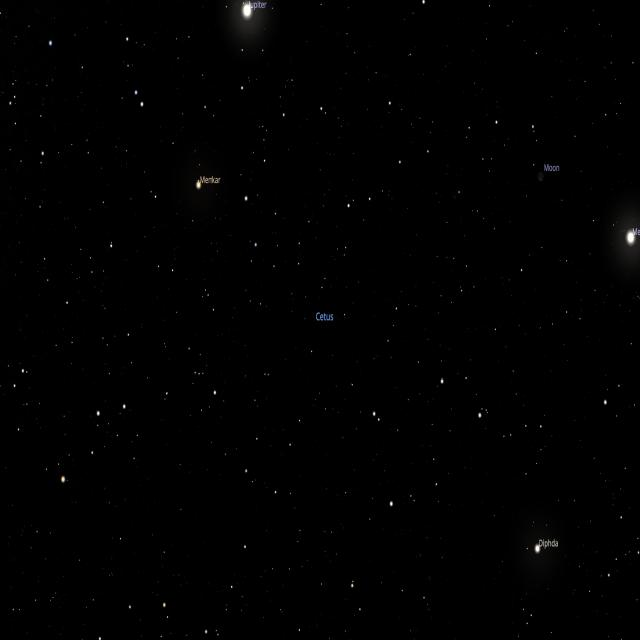Cetus: (192, 81, 609, 557)
